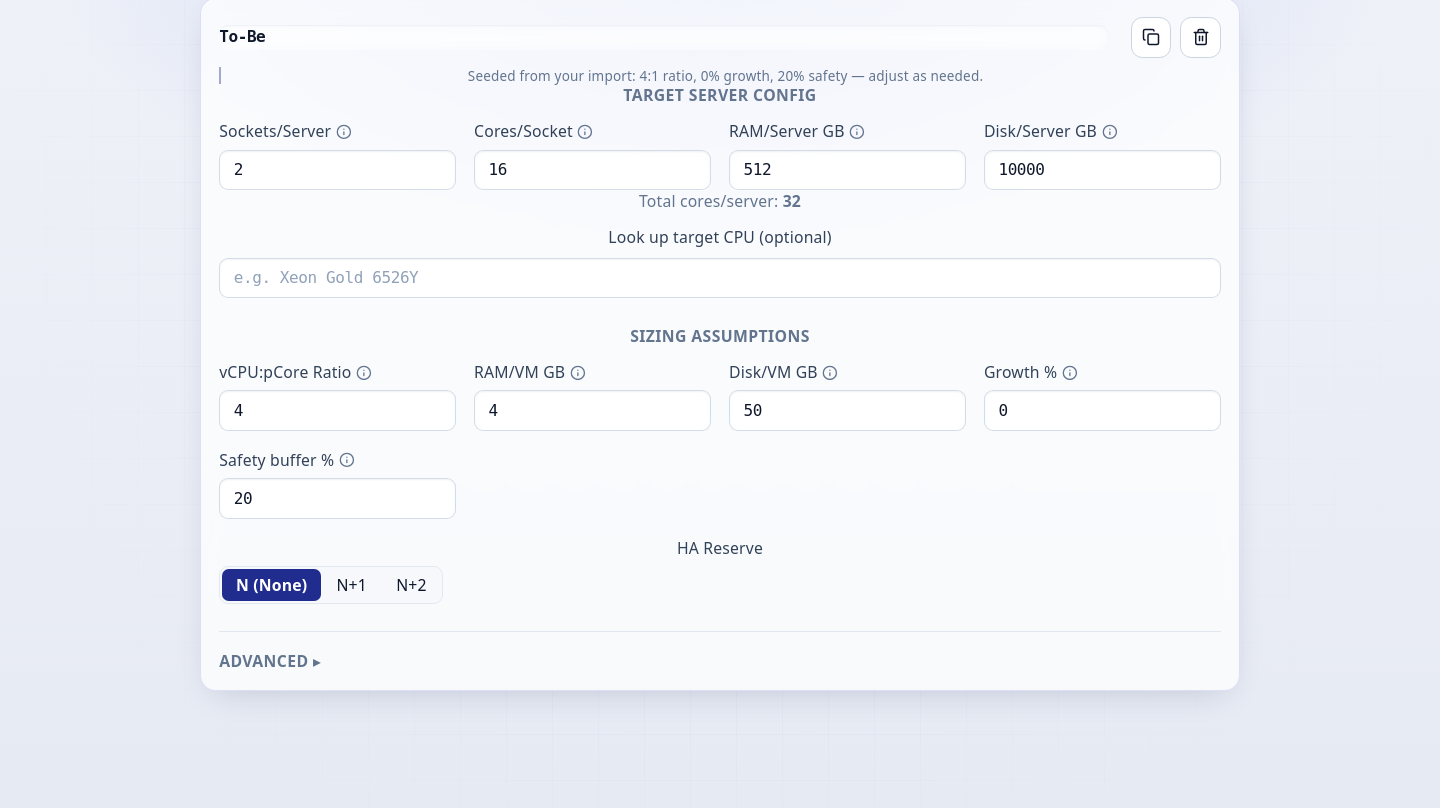
FORM-01: Advanced disclosure › clicking the toggle reveals the Advanced content
The width and height of the screenshot is (1440, 808).
Click the button "Advanced ▸" at x=264, y=661, box left=219, top=650, right=1221, bottom=672
(page scrolled)
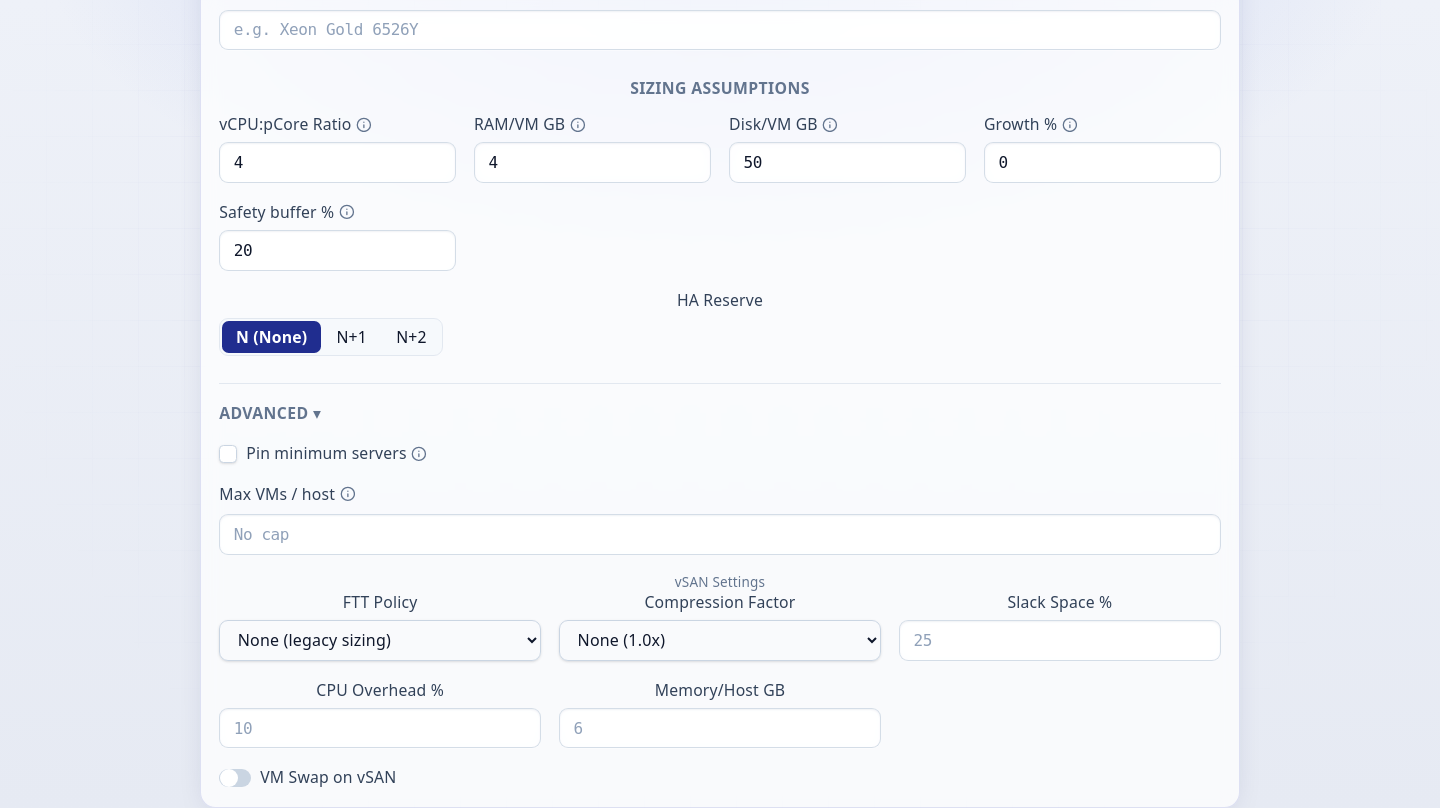
Now the button "Advanced ▾" is expanded, box left=219, top=402, right=1221, bottom=424
Now the text "vSAN Settings" is shown, box left=675, top=573, right=765, bottom=591
